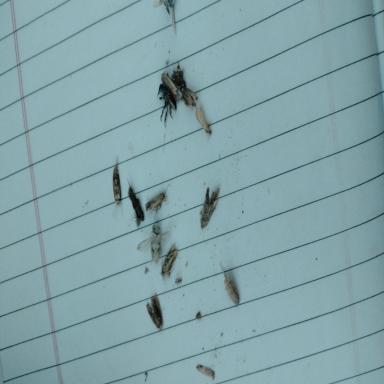pbw: (136, 223, 171, 263), (144, 182, 170, 219), (218, 263, 240, 305), (200, 186, 220, 228), (146, 293, 163, 330), (128, 186, 144, 221), (161, 245, 178, 277), (158, 82, 176, 112), (195, 106, 212, 135), (179, 85, 198, 110), (112, 155, 120, 205), (161, 71, 177, 95), (195, 363, 215, 379)
